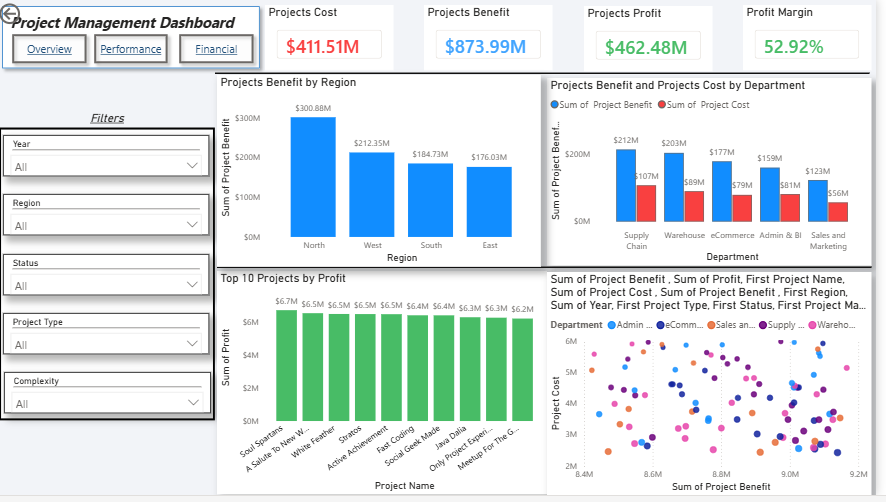

This screenshot's page, from the dashboard's own definition file:
{"tool":"powerbi","page":{"name":"Financial Analysis","canvas":[1280,720],"ordinal":2},"visuals":[{"type":"shape","box":[0,0,392.5,108.4],"z":0},{"type":"textbox","box":[15.7,13.3,355,47.1],"z":1000},{"type":"actionButton","box":[133.1,41.2,124.9,60.4],"z":2000},{"type":"actionButton","box":[258,41.2,126.2,60.4],"z":3000},{"type":"actionButton","box":[15.1,41.2,126.2,60.4],"z":4000},{"type":"shape","title":"Filters","box":[4.1,161.9,314.2,450.1],"z":5000},{"type":"slicer","fields":{"Values":["Project Management Dataset.Year"]},"box":[10.9,197,300.4,60],"z":6000},{"type":"slicer","fields":{"Values":["Project Management Dataset.Region"]},"box":[10.9,282.9,300.4,60],"z":7000},{"type":"slicer","fields":{"Values":["Project Management Dataset.Status"]},"box":[9.7,368.8,300.4,60],"z":8000},{"type":"slicer","fields":{"Values":["Project Management Dataset.Project Type"]},"box":[10.9,454.7,300.4,60],"z":9000},{"type":"slicer","fields":{"Values":["Project Management Dataset.Complexity"]},"box":[11,540.7,300.5,60.4],"z":10000},{"type":"cardVisual","title":"Projects Profit","fields":{"Data":["Sum(Project Management Dataset.Profit)"]},"box":[854.9,8.6,187,95.3],"z":11000},{"type":"cardVisual","title":"Projects Benefit ","fields":{"Data":["Sum(Project Management Dataset. Project Benefit )"]},"box":[623.3,7.4,187,95.3],"z":12000},{"type":"cardVisual","title":"Projects Cost ","fields":{"Data":["Sum(Project Management Dataset. Project Cost )"]},"box":[391.6,7.4,187,95.3],"z":13000},{"type":"cardVisual","title":"Profit Margin","fields":{"Data":["Project Management Dataset.Profit Margin %"]},"box":[1086.5,7.4,187,95.3],"z":14000},{"type":"shape","box":[321.1,382.8,952.3,12.3],"z":15000},{"type":"columnChart","title":"Top 10 Projects by Profit","fields":{"Category":["Project Management Dataset.Project Name"],"Y":["Sum(Project Management Dataset.Profit)"]},"box":[321.1,394.8,480.3,325.2],"z":16000},{"type":"clusteredColumnChart","title":"Projects Benefit  and Projects Cost  by Department","fields":{"Category":["Project Management Dataset.Department"],"Y":["Sum(Project Management Dataset. Project Benefit )","Sum(Project Management Dataset. Project Cost )"]},"box":[801.4,113.9,472,273.1],"z":17000},{"type":"clusteredColumnChart","title":"Projects Benefit  by Region","fields":{"Category":["Project Management Dataset.Region"],"Y":["Sum(Project Management Dataset. Project Benefit )"]},"box":[321.1,108.4,470.7,278.6],"z":18000},{"type":"shape","box":[318.4,100.2,952.3,12.3],"z":19000},{"type":"scatterChart","fields":{"Series":["Project Management Dataset.Department"],"Size":["Sum(Project Management Dataset.Profit)"],"X":["Sum(Project Management Dataset. Project Benefit )"],"Y":["Project Management Dataset. Project Cost "]},"box":[801,395,472,325],"z":20000},{"type":"actionButton","box":[0,0,100,40],"z":21000}]}

Visuals, with their boxes in screenshot pixels (x1, y1, x2, y2), scaled from the page's 1280x720 canvas onto the 886x502 screenshot:
shape: (0, 0, 272, 76)
textbox: (11, 9, 257, 42)
actionButton: (92, 29, 179, 71)
actionButton: (179, 29, 266, 71)
actionButton: (10, 29, 98, 71)
"Filters" shape: (3, 113, 220, 427)
slicer - Project Management Dataset.Year: (8, 137, 215, 179)
slicer - Project Management Dataset.Region: (8, 197, 215, 239)
slicer - Project Management Dataset.Status: (7, 257, 215, 299)
slicer - Project Management Dataset.Project Type: (8, 317, 215, 359)
slicer - Project Management Dataset.Complexity: (8, 377, 216, 419)
"Projects Profit" cardVisual: (592, 6, 721, 72)
"Projects Benefit " cardVisual: (431, 5, 561, 72)
"Projects Cost " cardVisual: (271, 5, 400, 72)
"Profit Margin" cardVisual: (752, 5, 882, 72)
shape: (222, 267, 881, 275)
"Top 10 Projects by Profit" columnChart: (222, 275, 555, 501)
"Projects Benefit  and Projects Cost  by Department" clusteredColumnChart: (555, 79, 881, 270)
"Projects Benefit  by Region" clusteredColumnChart: (222, 76, 548, 270)
shape: (220, 70, 880, 78)
scatterChart - Project Management Dataset.Department x Sum(Project Management Dataset.Profit): (554, 275, 881, 501)
actionButton: (0, 0, 69, 28)
